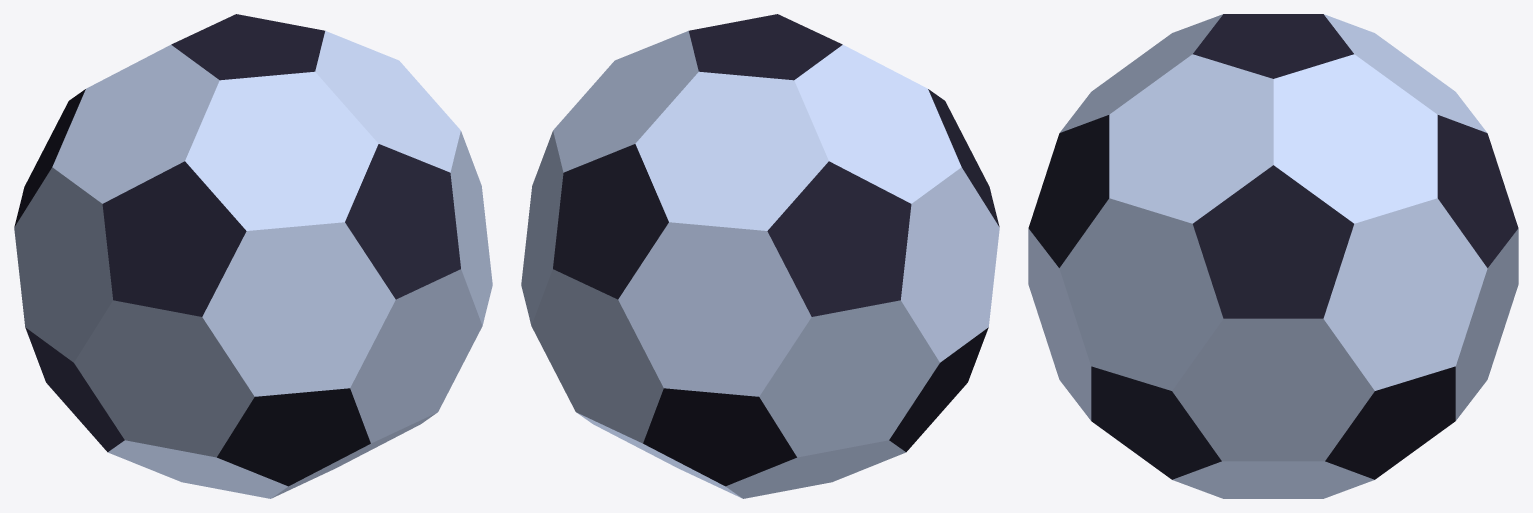
Rendered from soccer ball.fbx.
The picture shows the model from 3 angles, left to right: view 1: azimuth 30°, elevation 25°; view 2: azimuth 150°, elevation 25°; view 3: azimuth 270°, elevation 25°; orthographic projection. The views are drawn at different scales.
Visible parts, largest first — view 1: Icosphere; view 2: Icosphere; view 3: Icosphere.
Part boxes in pixels (x1,y1,x2,y2): Icosphere: (14,14,492,498); Icosphere: (521,14,999,498); Icosphere: (1028,14,1518,498).
Size of the model in its own units: 81.55 by 79.56 by 82.77.
